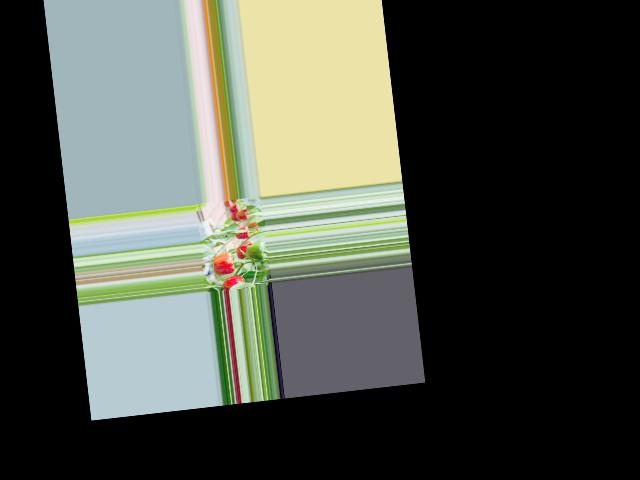bell_pepper: (230, 224, 254, 240)
